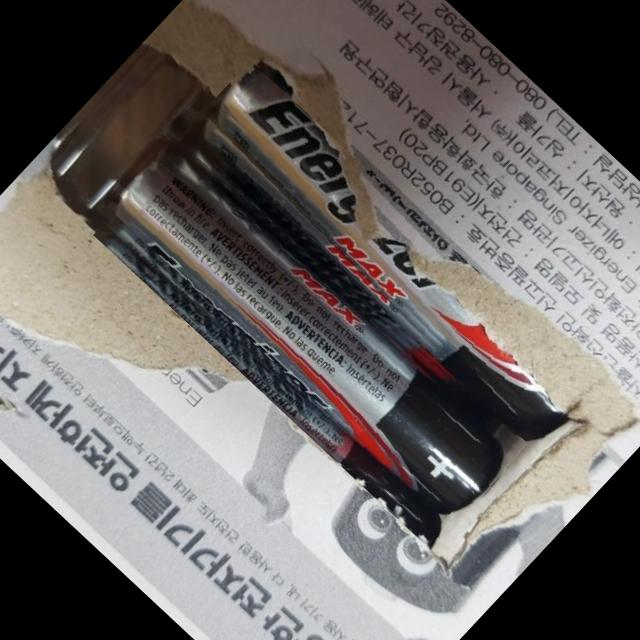Hazard: (107, 122, 531, 529), (188, 59, 603, 455), (92, 207, 458, 550)
